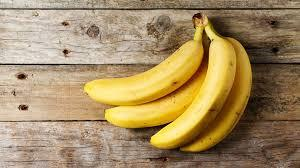banana: (83, 12, 255, 153)
